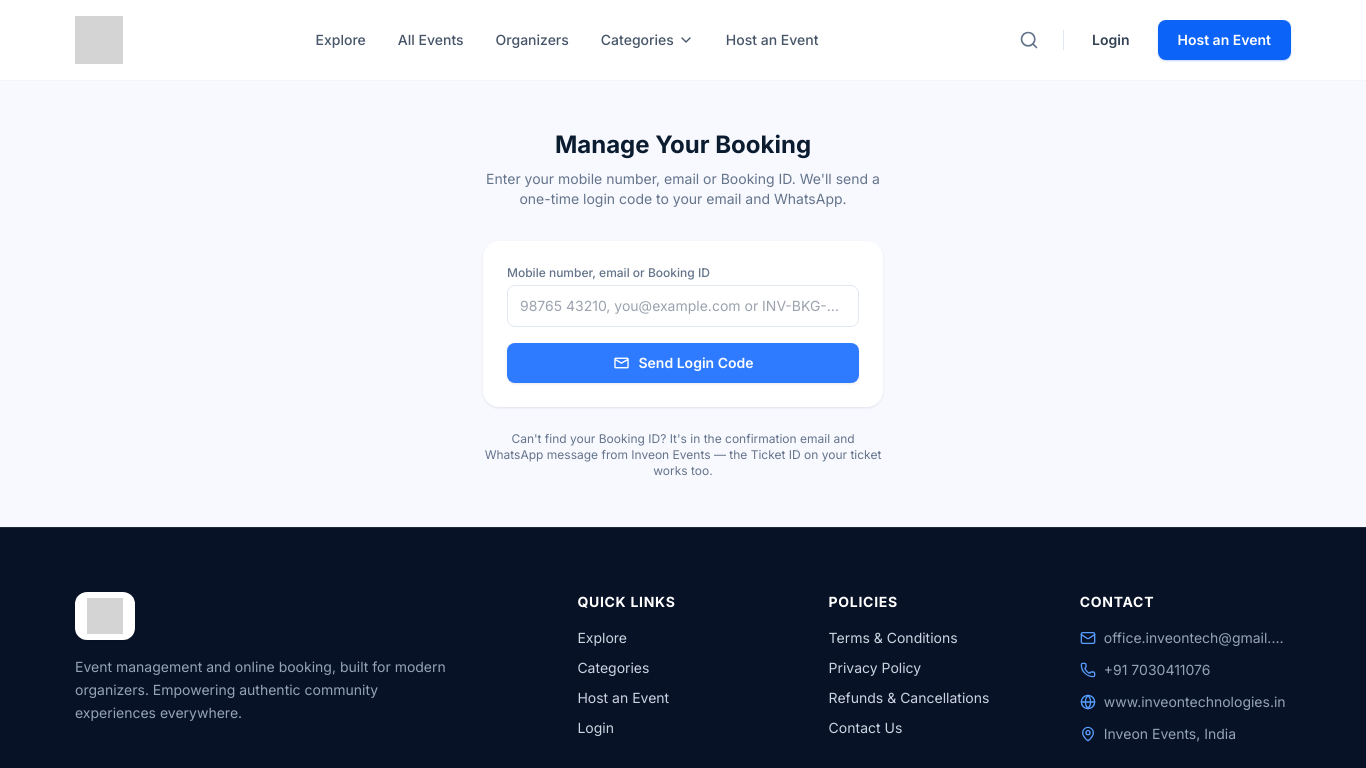
Test: VerificationLookupPage › shows field errors and sends nothing when the form is empty or invalid
Click the button "Send Login Code" at (683,363), box [507,343,859,383]
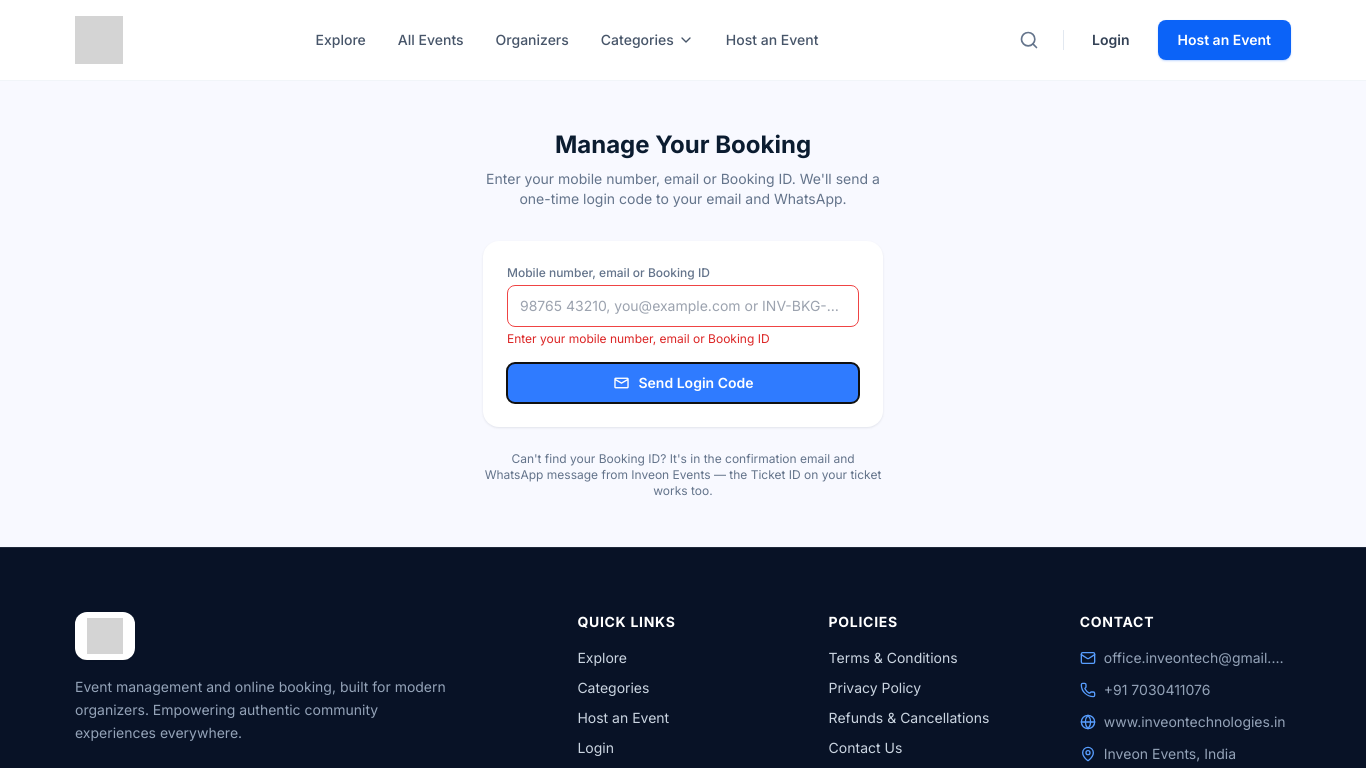
Expected: the message reads "Enter your mobile number, email or Booking ID", [507,331,770,346]
Type "rahul@" into the field labelled "Mobile number, email or Booking ID" at (683,306), box [507,285,859,327]
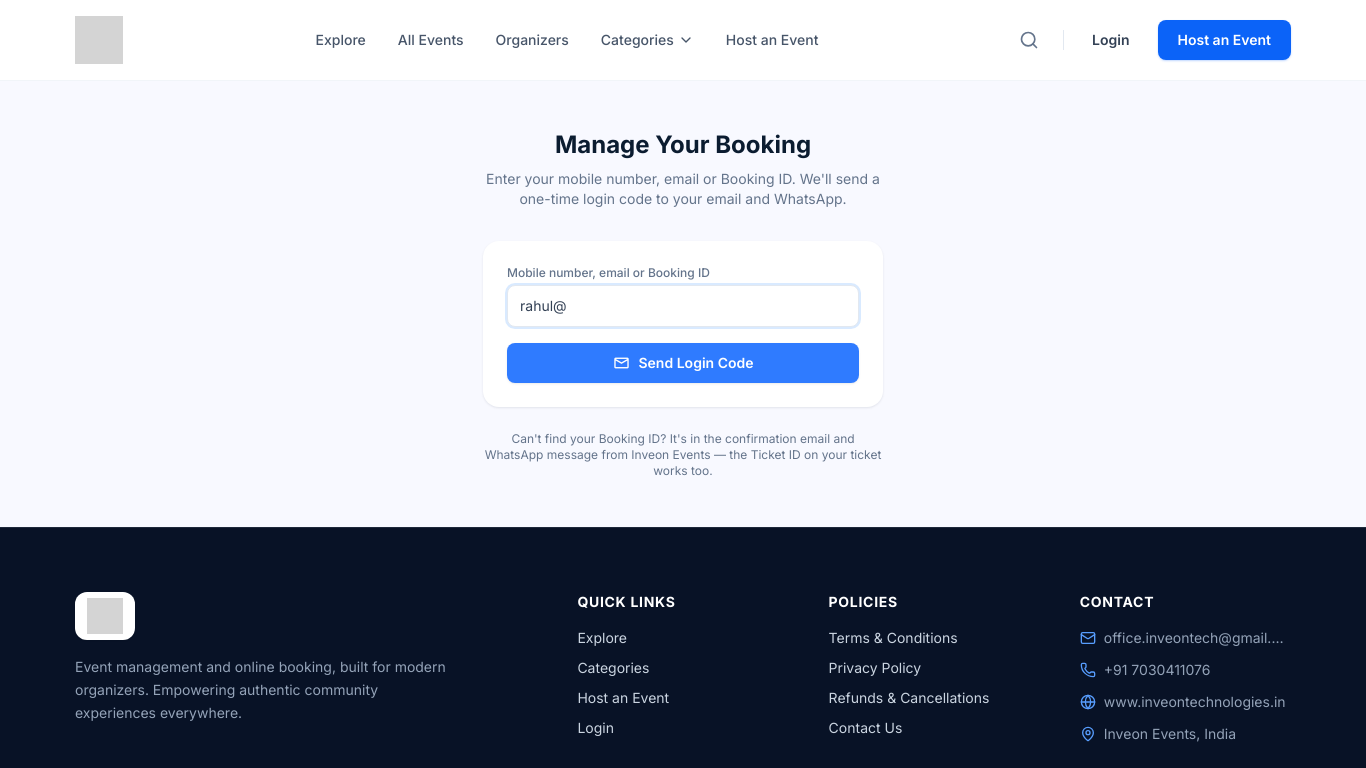
Click the button "Send Login Code" at (683,363), box [507,343,859,383]
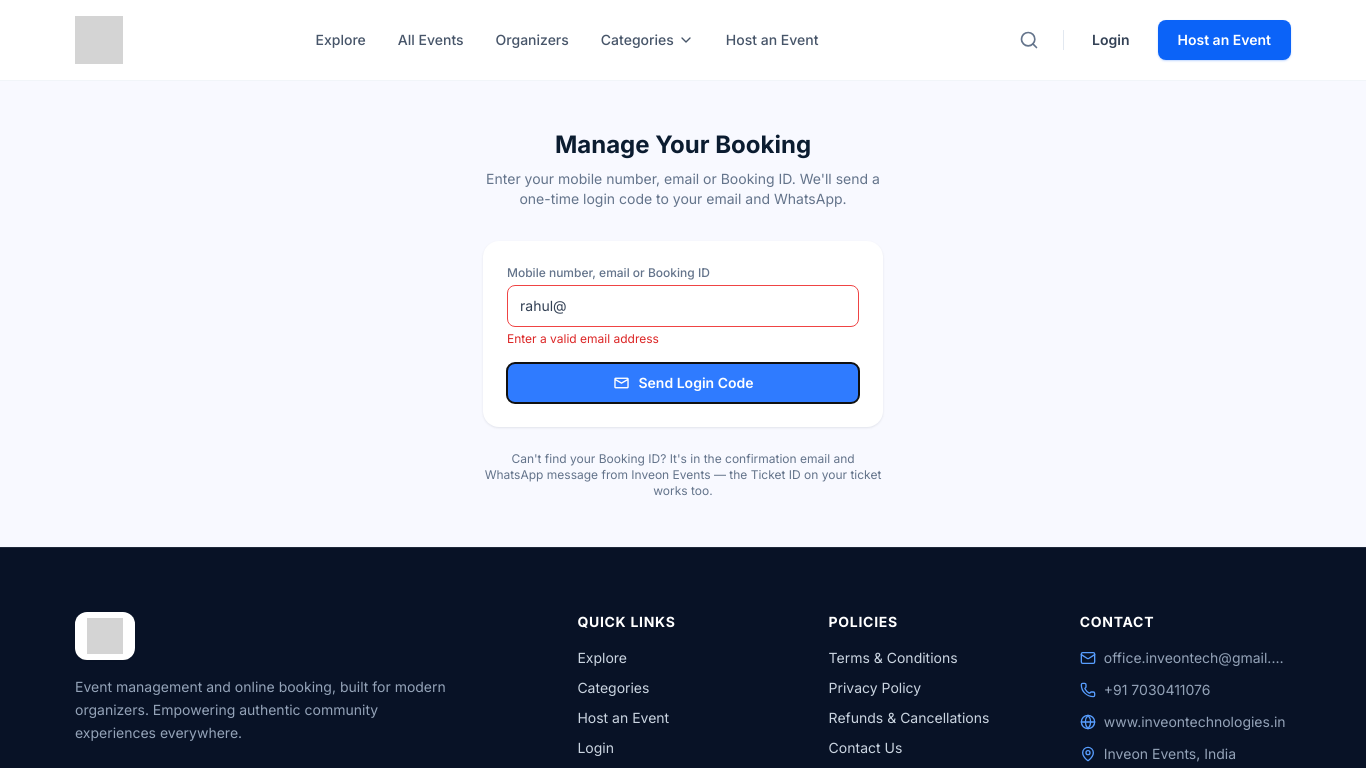
Expected: the text "Enter a valid email address" is shown, [507,331,659,346]
